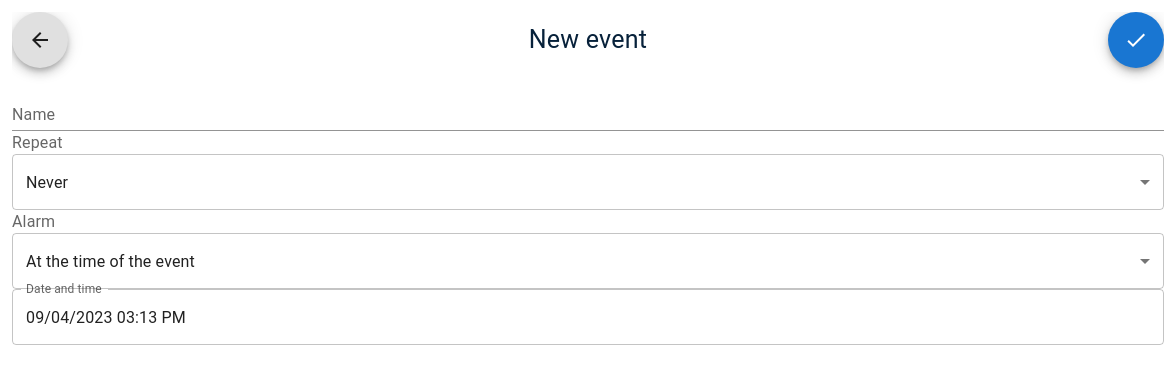
NewEventForm - renders and events › should show error when user submits form without name
Click the button named "add".
click(1136, 40)  # box [1108,12,1164,68]
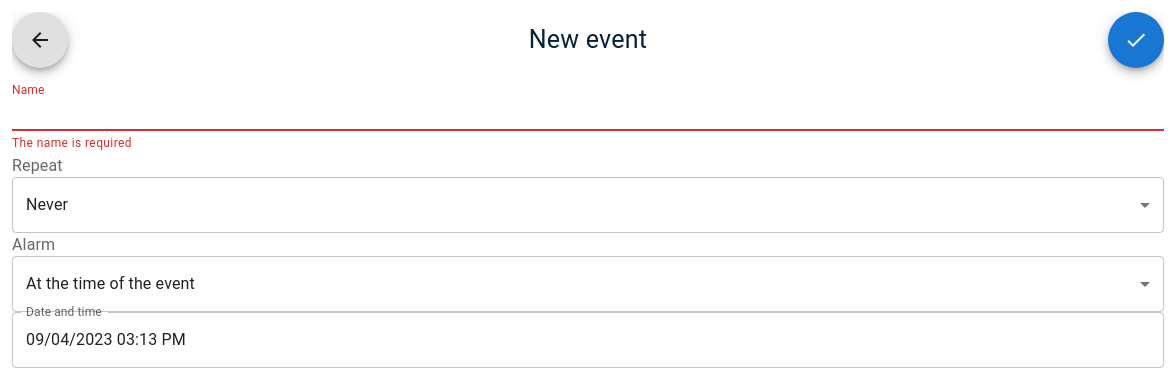
Expected: the text "The name is required" is shown, [12,136,132,150]
